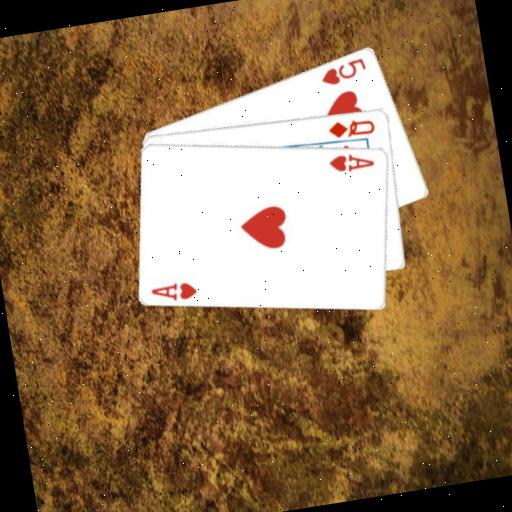5H: (316, 53, 370, 88)
AH: (147, 275, 200, 306), (325, 145, 377, 176)
QD: (324, 111, 377, 141)
